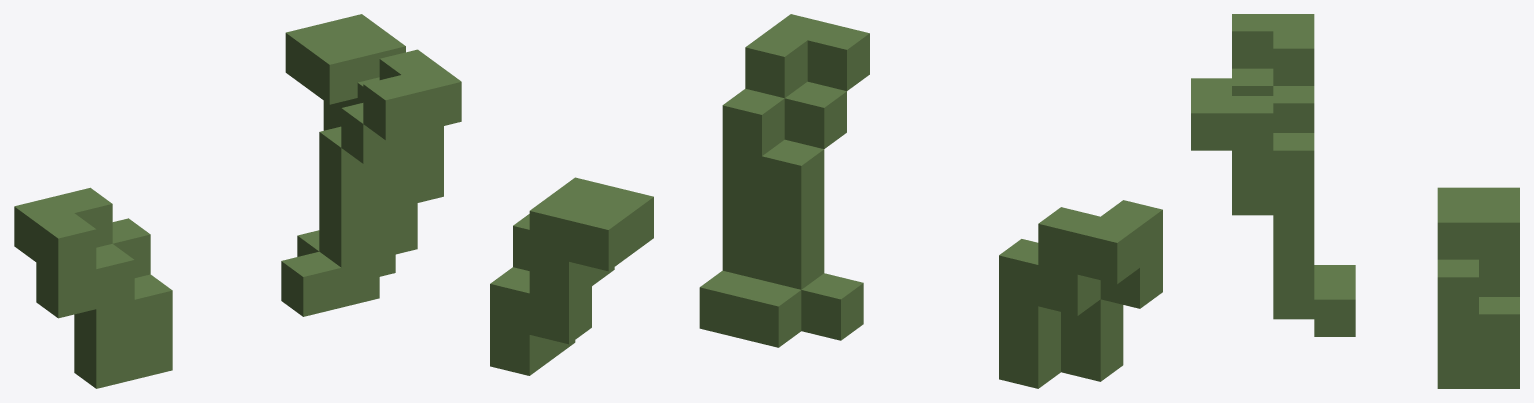
Rendered from grass_tuft_v2_species1_far.glb.
3 views of the same model, side by side, from view 1: azimuth 30°, elevation 25°; view 2: azimuth 150°, elevation 25°; view 3: azimuth 270°, elevation 25° (orthographic). The views are drawn at different scales.
Parts seen in each view (by area): view 1: grass_tuft_v2_species1_far; view 2: grass_tuft_v2_species1_far; view 3: grass_tuft_v2_species1_far.
Part boxes in pixels (left/top/right/bottom): grass_tuft_v2_species1_far: left=14, top=14, right=461, bottom=388; grass_tuft_v2_species1_far: left=490, top=14, right=1162, bottom=388; grass_tuft_v2_species1_far: left=1191, top=14, right=1519, bottom=388.
Bounding box in the file's own units: 1.62 × 0.75 × 1.
1 material, 1 textured.
